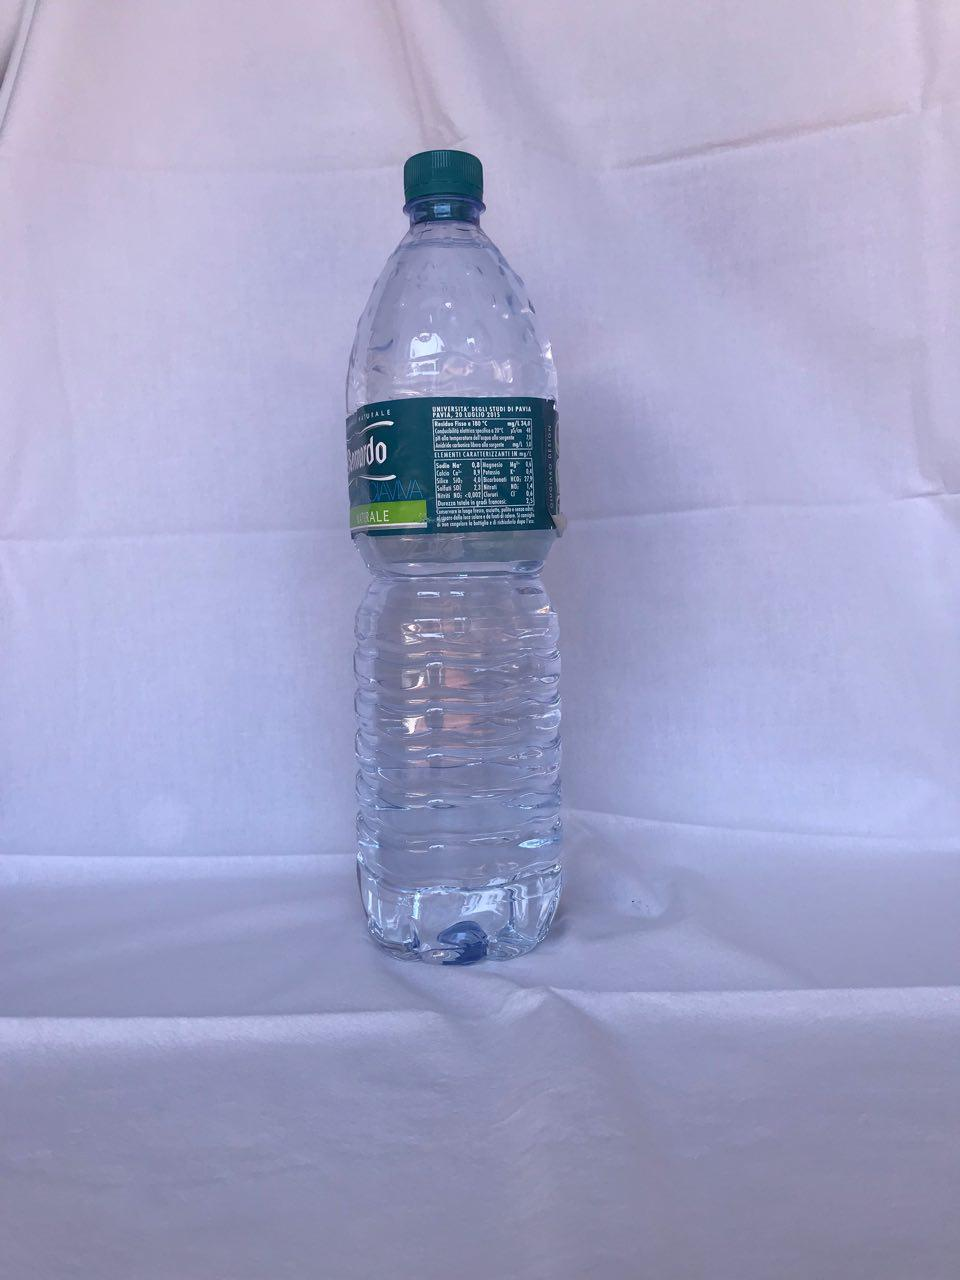san_bernardo: (343, 148, 565, 967)
